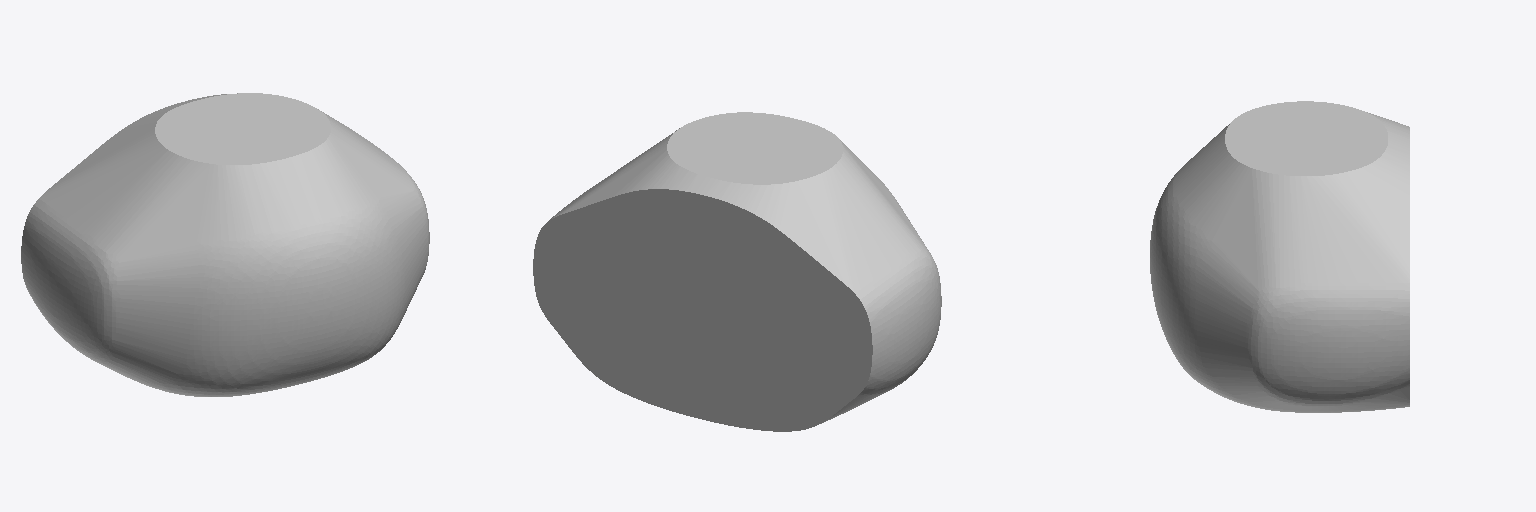
The model's file is duck_collision_3.obj.
3 renders of one model, left to right at view 1: azimuth 30°, elevation 25°; view 2: azimuth 150°, elevation 25°; view 3: azimuth 270°, elevation 25°, orthographic.
Bounding box in the file's own units: 0.0802 × 0.0514 × 0.0518.